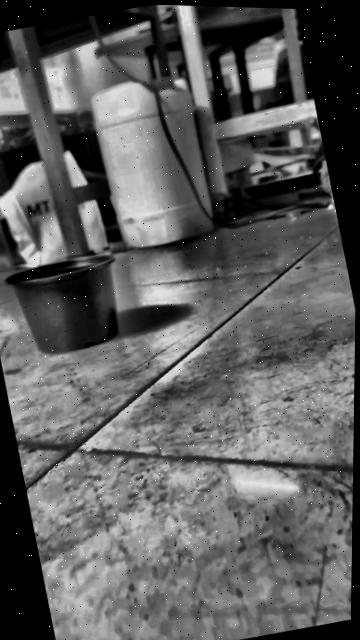pot: (1, 247, 129, 361)
